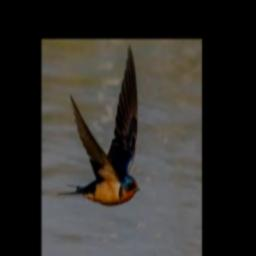Swallow: (58, 44, 141, 205)
